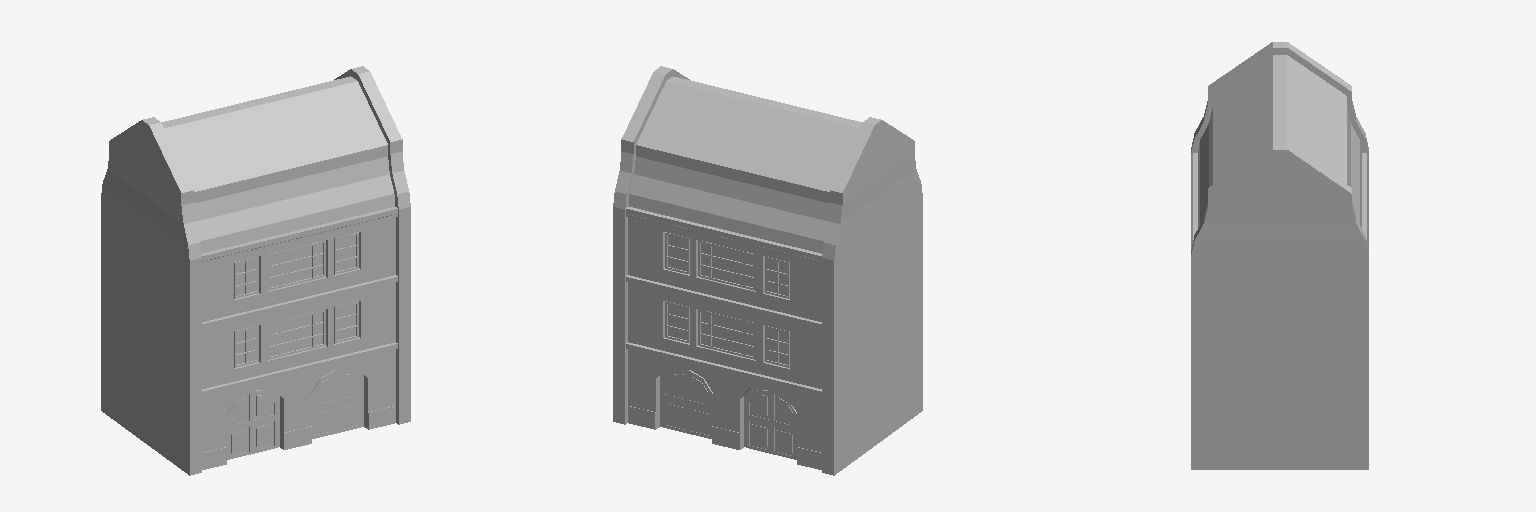
The model's file is Building_4_new.obj.
The picture shows the model from 3 angles: view 1: azimuth 30°, elevation 25°; view 2: azimuth 150°, elevation 25°; view 3: azimuth 270°, elevation 25°; orthographic projection.
Parts seen in each view (by area): view 1: Building2_Small_Cube.015; view 2: Building2_Small_Cube.015; view 3: Building2_Small_Cube.015.
Boxes of the visible parts, x1,y1,x2,y2 form: Building2_Small_Cube.015: [101, 66, 410, 475]; Building2_Small_Cube.015: [613, 66, 922, 475]; Building2_Small_Cube.015: [1191, 42, 1368, 469].
Bounding box in the file's own units: 3.58 × 4.97 × 2.49.